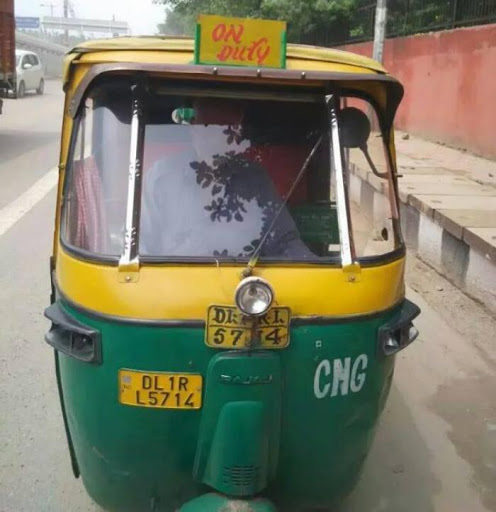doublelinenumberplate: (117, 366, 204, 410)
